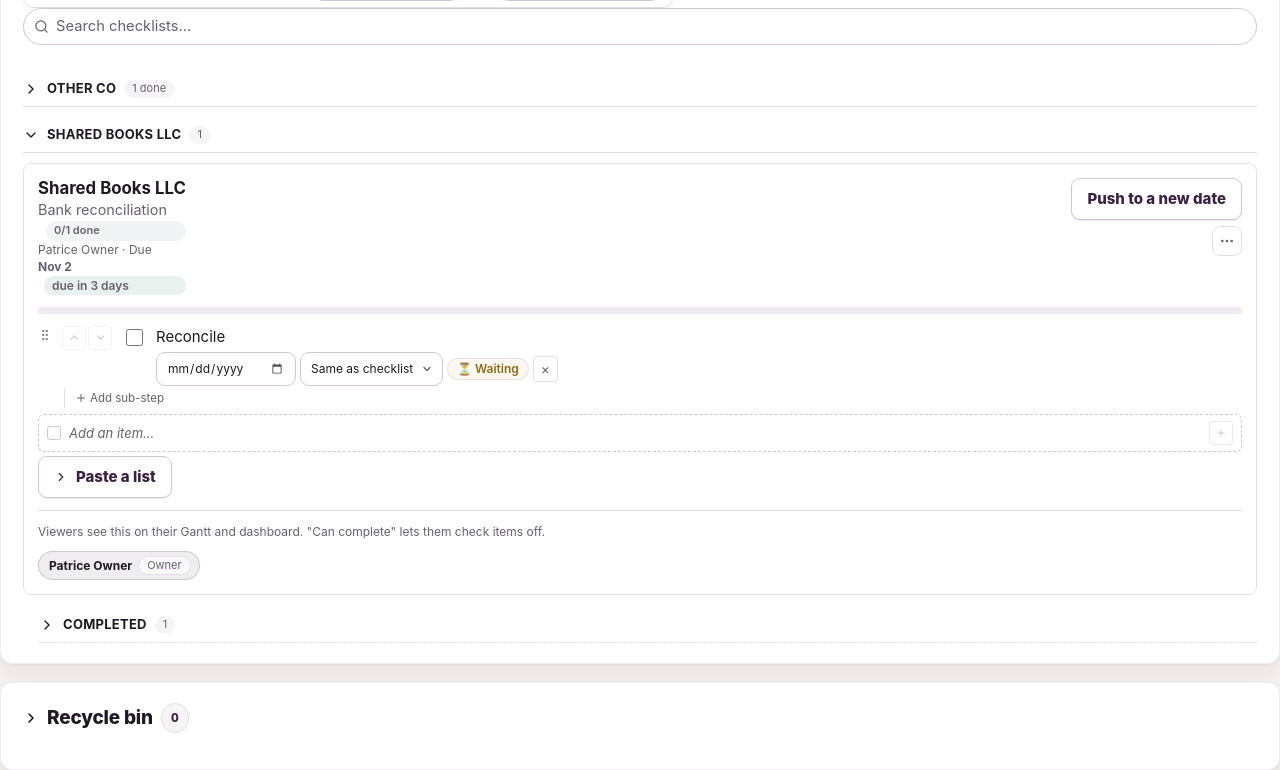
Scenario: In progress grouped by client: completed checklists in a nested Completed group › lists the open card in the client group and tucks the completed one into a collapsed Completed (1)
(page scrolled)
Check: the element with class "checklist-group" showing "Completed 1" is shown, box [23,608,1257,643]
Click the button with class "checklist-group-header" showing "Completed 1".
click(105, 624)  # box [39,608,1257,643]
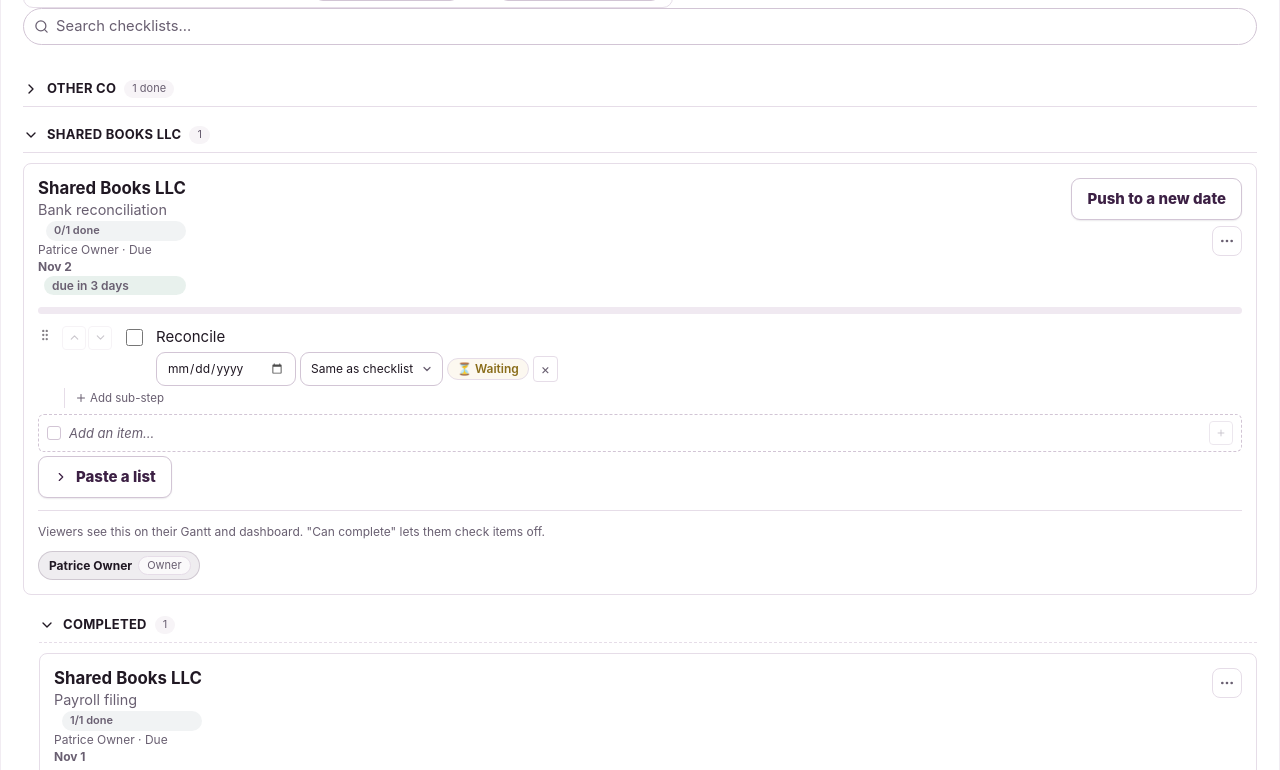
Check: the button with class "checklist-group-header" is expanded, box [39,608,1257,643]
